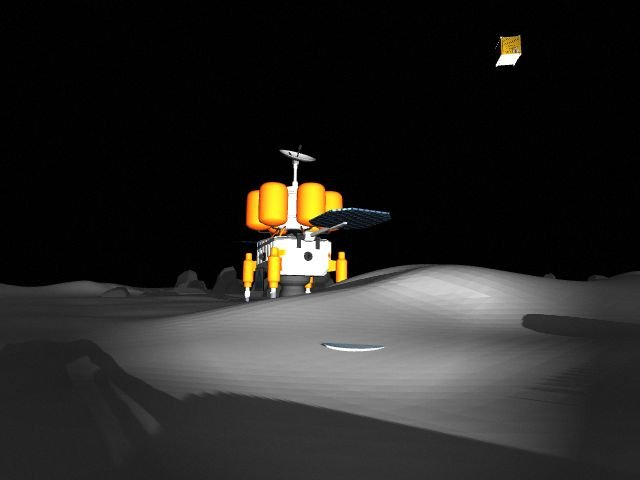homebase: (217, 141, 392, 304)
